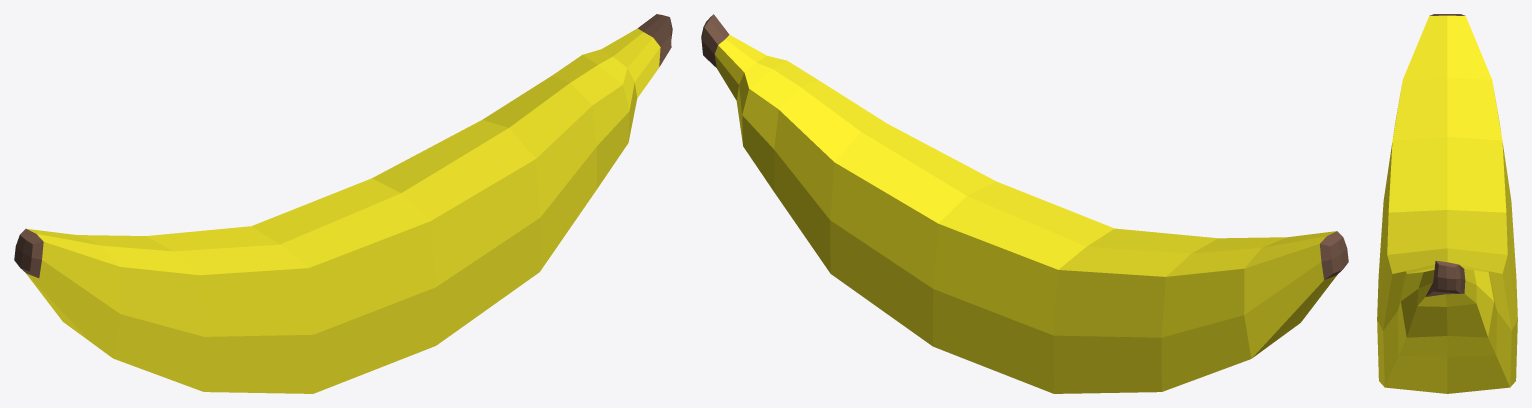
File: Banana_01.fbx
The picture shows the model from 3 angles, left to right: view 1: azimuth 30°, elevation 25°; view 2: azimuth 150°, elevation 25°; view 3: azimuth 270°, elevation 25°; orthographic projection. The views are drawn at different scales.
Visible parts, largest first — view 1: Banana_01; view 2: Banana_01; view 3: Banana_01.
Boxes of the visible parts, x1,y1,x2,y2 form: Banana_01: (14,14,672,393); Banana_01: (701,14,1348,393); Banana_01: (1377,14,1517,393).
Bounding box in the file's own units: 29.1 × 11.8 × 5.33.
